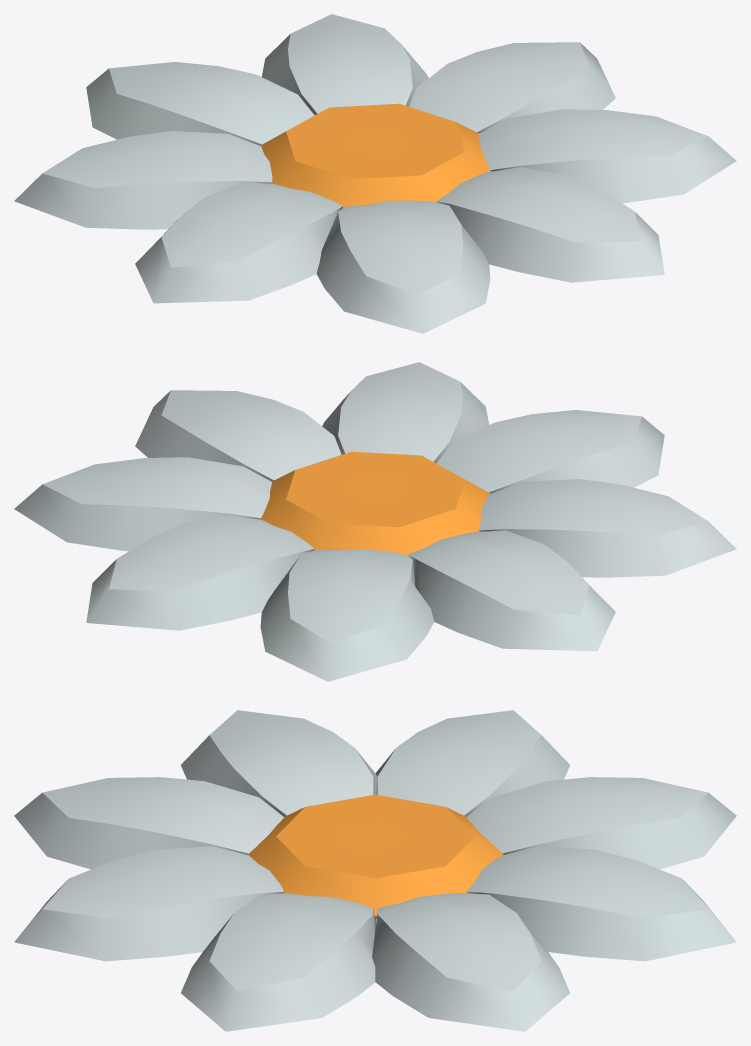
The model's file is Flower_1_C.glb.
3 views of the same model, one above another, from view 1: azimuth 30°, elevation 25°; view 2: azimuth 150°, elevation 25°; view 3: azimuth 270°, elevation 25° (orthographic). The views are drawn at different scales.
Parts seen in each view (by area): view 1: Flower_1_C; view 2: Flower_1_C; view 3: Flower_1_C.
Part boxes in pixels (x1,y1,x2,y2): Flower_1_C: (14, 14, 736, 333); Flower_1_C: (14, 362, 736, 681); Flower_1_C: (14, 710, 736, 1031).
Bounding box in the file's own units: 0.337 × 0.0243 × 0.337.
Materials: 1 (1 with a texture image).
